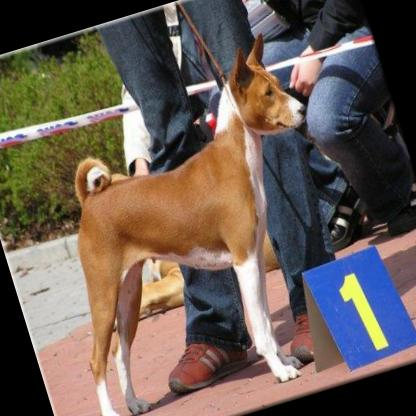basenji: (3, 20, 381, 416)
